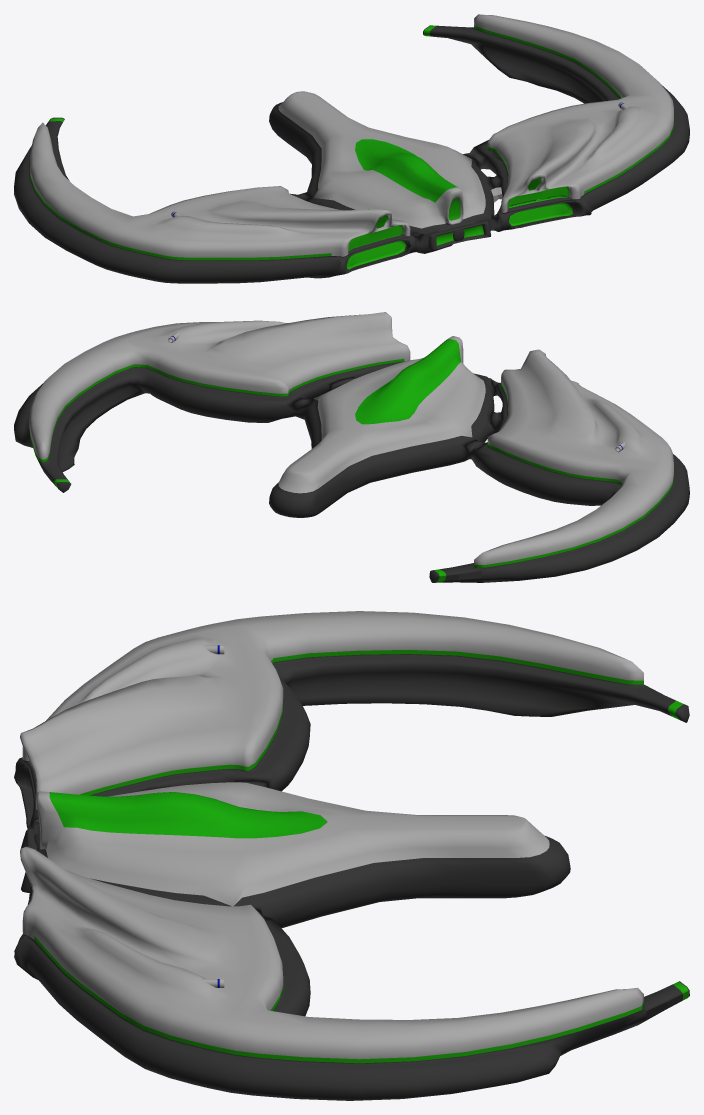
The model's file is spaceship.obj.
The picture shows the model from 3 angles, top to bottom: view 1: azimuth 30°, elevation 25°; view 2: azimuth 150°, elevation 25°; view 3: azimuth 270°, elevation 25°; orthographic projection. The views are drawn at different scales.
Visible parts, largest first — view 1: Plane; view 2: Plane; view 3: Plane.
Part boxes in pixels (<box>): Plane: <box>14,14,689,283</box>; Plane: <box>14,312,689,582</box>; Plane: <box>14,611,689,1100</box>.
Size of the model in its own units: 33.4 by 4 by 20.84.
